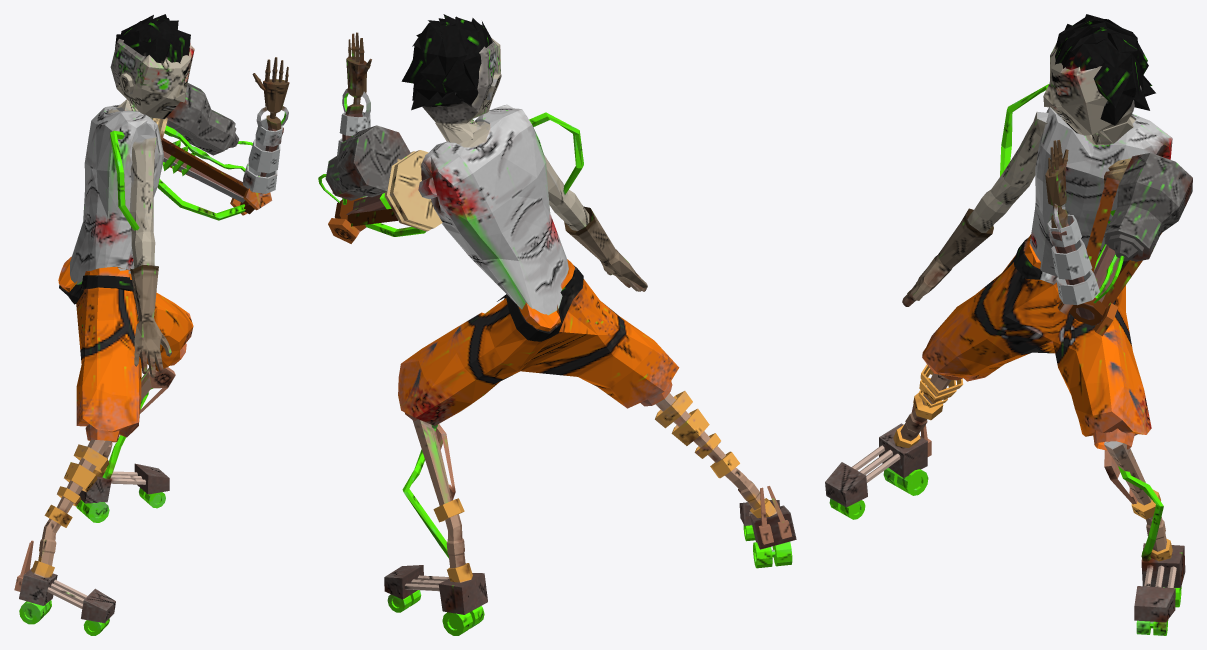
Rendered from CyborgFINALAnimation_000024.obj.
3 views of the same model, side by side, from view 1: azimuth 30°, elevation 25°; view 2: azimuth 150°, elevation 25°; view 3: azimuth 270°, elevation 25° (orthographic). The views are drawn at different scales.
Visible parts, largest first — view 1: CyborgMesh_Cube.002; view 2: CyborgMesh_Cube.002; view 3: CyborgMesh_Cube.002.
Part boxes in pixels (x1,y1,x2,y2): CyborgMesh_Cube.002: [14, 14, 289, 635]; CyborgMesh_Cube.002: [318, 14, 796, 635]; CyborgMesh_Cube.002: [825, 14, 1192, 635].
Bounding box in the file's own units: 5.96 × 8.67 × 4.77.
